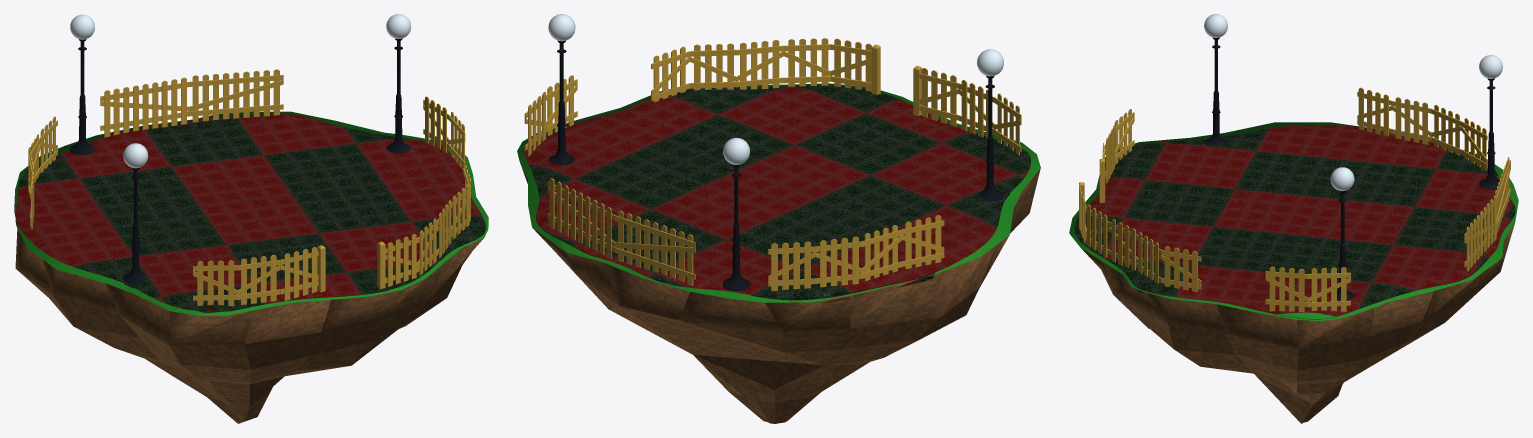
Rendered from parco_p1_.fbx.
3 views of the same model, side by side, from view 1: azimuth 30°, elevation 25°; view 2: azimuth 150°, elevation 25°; view 3: azimuth 270°, elevation 25° (orthographic). The views are drawn at different scales.
Visible parts, largest first — view 1: Plane.001, ground.004, FenceStyle2Long, PoleStyle3.001, FenceStyle2Short.008, FenceStyle2Short.002, FenceStyle2Short.004, polySurface378.001, polySurface378.002, polySurface378, FenceStyle2Short, GateStyle2; view 2: Plane.001, ground.004, FenceStyle2Short.004, FenceStyle2Long, FenceStyle2Short.002, PoleStyle3.001, FenceStyle2Short.008, GateStyle2, polySurface378.001, FenceStyle2Short, polySurface378, polySurface378.002 (+1 smaller); view 3: Plane.001, ground.004, FenceStyle2Short.004, FenceStyle2Short.002, FenceStyle2Short.008, FenceStyle2Long, PoleStyle3.001, polySurface378.001, polySurface378.002, polySurface378, GateStyle2.
Boxes of the visible parts, bbox=[...] form: Plane.001: bbox=[15, 113, 485, 312]; ground.004: bbox=[14, 111, 488, 423]; FenceStyle2Long: bbox=[100, 69, 283, 137]; PoleStyle3.001: bbox=[193, 245, 325, 306]; FenceStyle2Short.008: bbox=[423, 96, 465, 170]; FenceStyle2Short.002: bbox=[437, 165, 470, 258]; FenceStyle2Short.004: bbox=[28, 116, 57, 229]; polySurface378.001: bbox=[69, 14, 95, 154]; polySurface378.002: bbox=[123, 143, 148, 283]; polySurface378: bbox=[386, 14, 411, 153]; FenceStyle2Short: bbox=[385, 234, 418, 286]; GateStyle2: bbox=[418, 218, 437, 275]; Plane.001: bbox=[523, 85, 1030, 303]; ground.004: bbox=[517, 83, 1040, 423]; FenceStyle2Short.004: bbox=[768, 215, 944, 290]; FenceStyle2Long: bbox=[547, 178, 695, 285]; FenceStyle2Short.002: bbox=[651, 40, 783, 102]; PoleStyle3.001: bbox=[913, 65, 1021, 155]; FenceStyle2Short.008: bbox=[524, 75, 577, 156]; GateStyle2: bbox=[784, 38, 831, 86]; polySurface378.001: bbox=[722, 137, 749, 290]; FenceStyle2Short: bbox=[830, 38, 872, 91]; polySurface378: bbox=[548, 14, 575, 165]; polySurface378.002: bbox=[977, 49, 1003, 200]; Plane.001: bbox=[1074, 125, 1515, 319]; ground.004: bbox=[1069, 122, 1518, 423]; FenceStyle2Short.004: bbox=[1357, 87, 1487, 170]; FenceStyle2Short.002: bbox=[1109, 219, 1201, 292]; FenceStyle2Short.008: bbox=[1265, 266, 1350, 314]; FenceStyle2Long: bbox=[1464, 157, 1510, 271]; PoleStyle3.001: bbox=[1099, 109, 1134, 203]; polySurface378.001: bbox=[1479, 55, 1502, 189]; polySurface378.002: bbox=[1204, 14, 1227, 146]; polySurface378: bbox=[1330, 167, 1354, 300]; GateStyle2: bbox=[1086, 204, 1109, 257].
Bounding box in the file's own units: 4126 × 3218 × 3944.
Materials: 5 (3 with a texture image).
